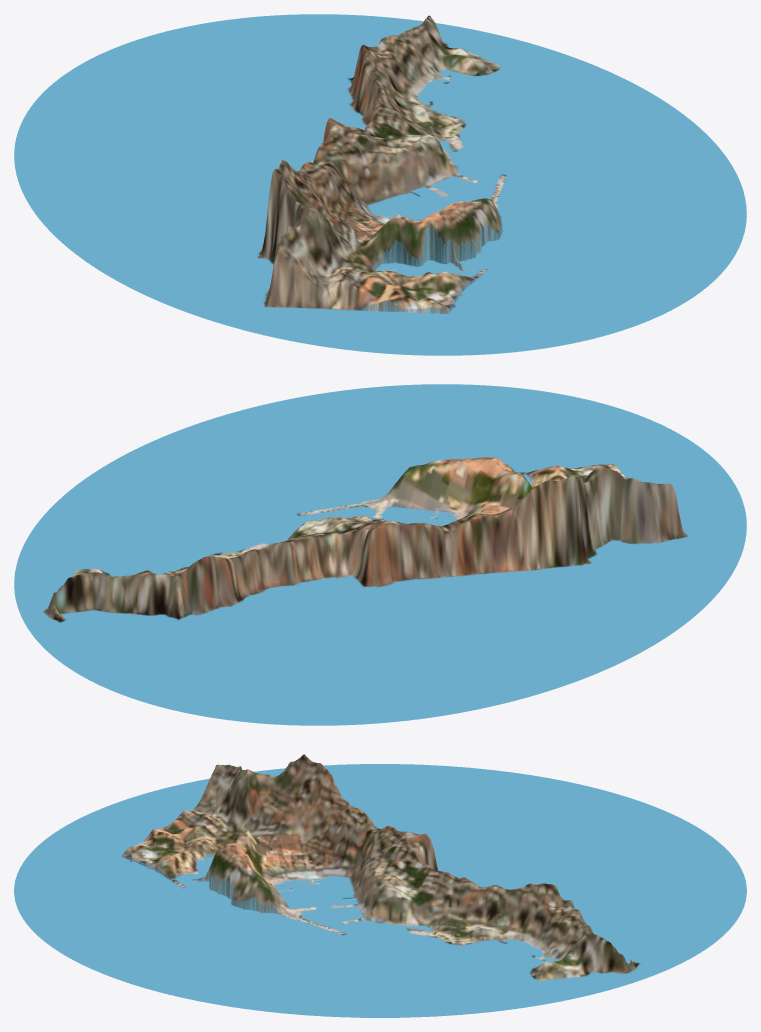
File: MCO-previa-terrain.glb
The picture shows the model from 3 angles, top to bottom: view 1: azimuth 30°, elevation 25°; view 2: azimuth 150°, elevation 25°; view 3: azimuth 270°, elevation 25°; orthographic projection. The views are drawn at different scales.
Visible parts, largest first — view 1: Mónaco; view 2: Mónaco; view 3: Mónaco.
Boxes of the visible parts, x1,y1,x2,y2 form: Mónaco: (14,14,746,355); Mónaco: (14,384,746,725); Mónaco: (14,754,746,1017).
Size of the model in its own units: 2.04 by 0.2761 by 2.49.
1 material, 1 textured.
